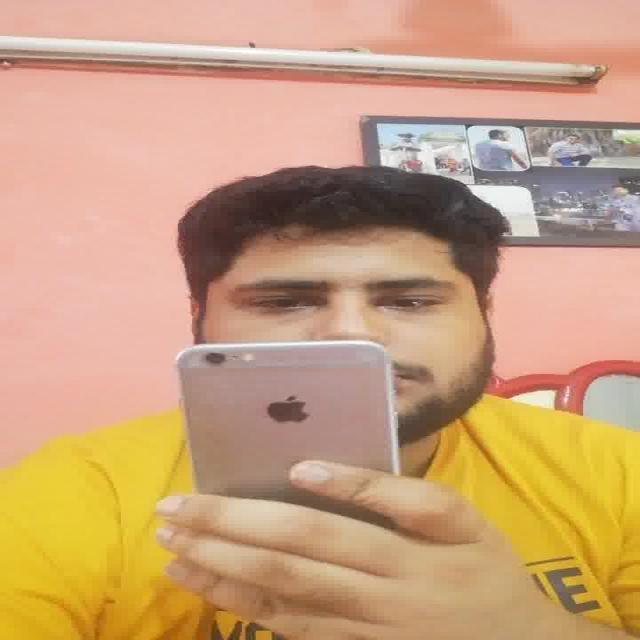Phone: (173, 340, 403, 495)
